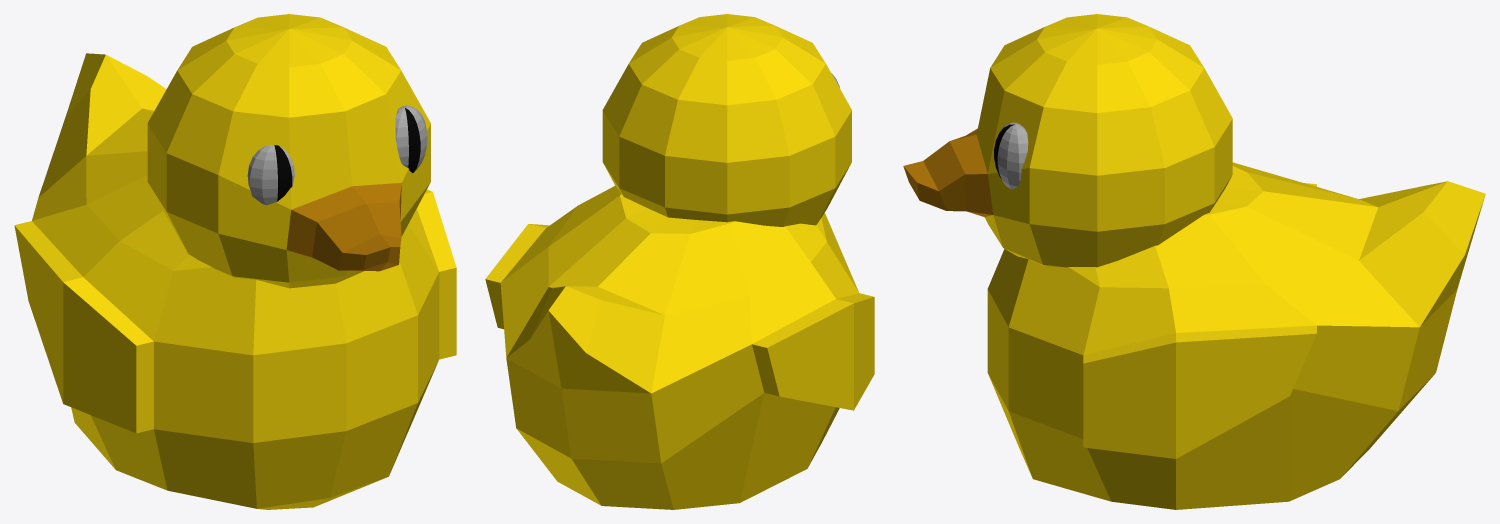
File: duck.fbx
3 views of the same model, side by side, from view 1: azimuth 30°, elevation 25°; view 2: azimuth 150°, elevation 25°; view 3: azimuth 270°, elevation 25° (orthographic). The views are drawn at different scales.
Visible parts, largest first — view 1: RubberDuck; view 2: RubberDuck; view 3: RubberDuck.
Boxes of the visible parts, bbox=[...] form: RubberDuck: bbox=[14, 14, 456, 509]; RubberDuck: bbox=[485, 14, 874, 509]; RubberDuck: bbox=[903, 14, 1485, 509].
Size of the model in its own units: 43.5 by 52.05 by 62.06.
